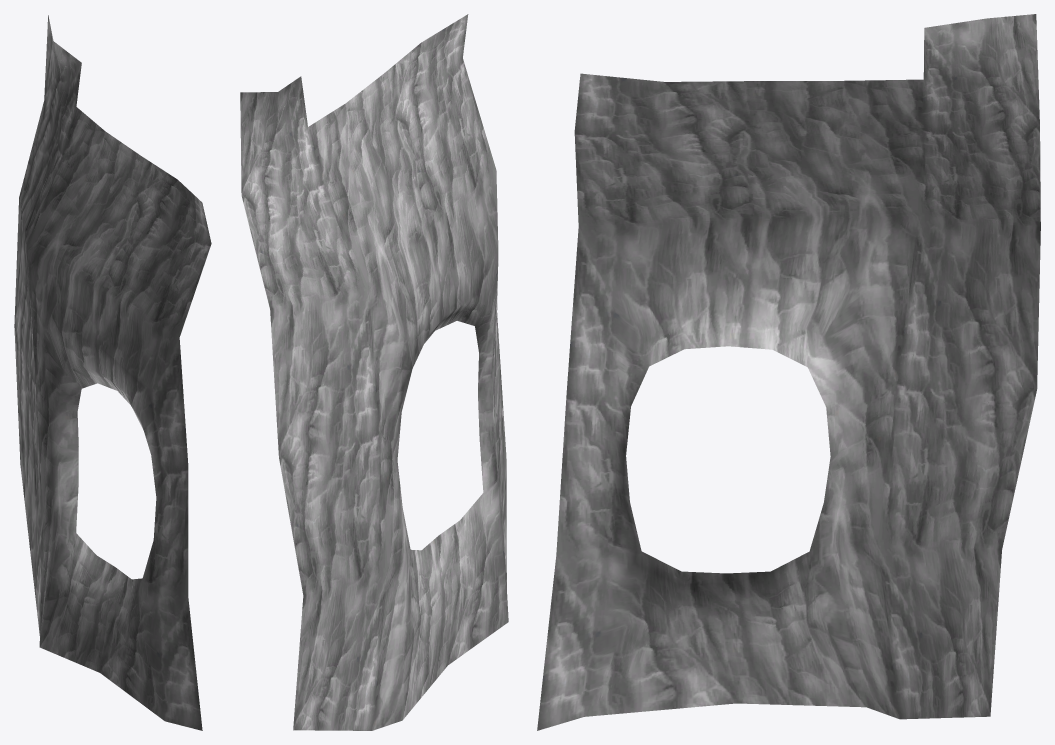
Rendered from SWORDLIGHT20_PS-AREA03_166.fbx.
The picture shows the model from 3 angles, left to right: view 1: azimuth 30°, elevation 25°; view 2: azimuth 150°, elevation 25°; view 3: azimuth 270°, elevation 25°; orthographic projection. The views are drawn at different scales.
Parts seen in each view (by area): view 1: SWORDLIGHT20_PS-AREA03_166; view 2: SWORDLIGHT20_PS-AREA03_166; view 3: SWORDLIGHT20_PS-AREA03_166.
Boxes of the visible parts, x1,y1,x2,y2 form: SWORDLIGHT20_PS-AREA03_166: (14, 15, 211, 730); SWORDLIGHT20_PS-AREA03_166: (240, 14, 508, 730); SWORDLIGHT20_PS-AREA03_166: (537, 14, 1040, 730).
Bounding box in the file's own units: 27866 × 205756 × 126285.
Materials: 1 (1 with a texture image).
